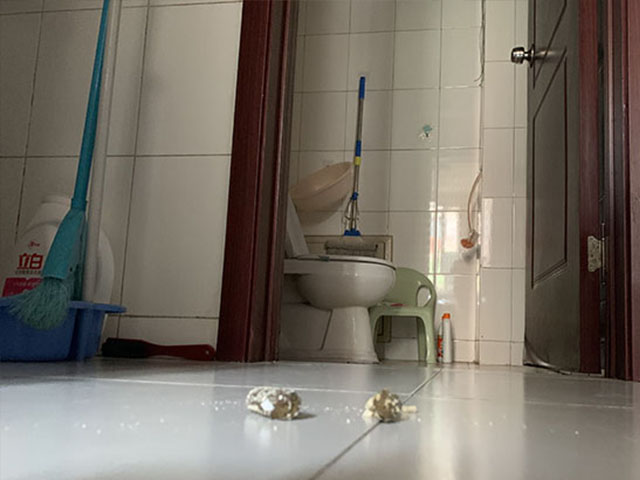closestool: (286, 198, 401, 367)
feces: (245, 384, 305, 420), (358, 387, 405, 424)
stool: (370, 266, 442, 367)
